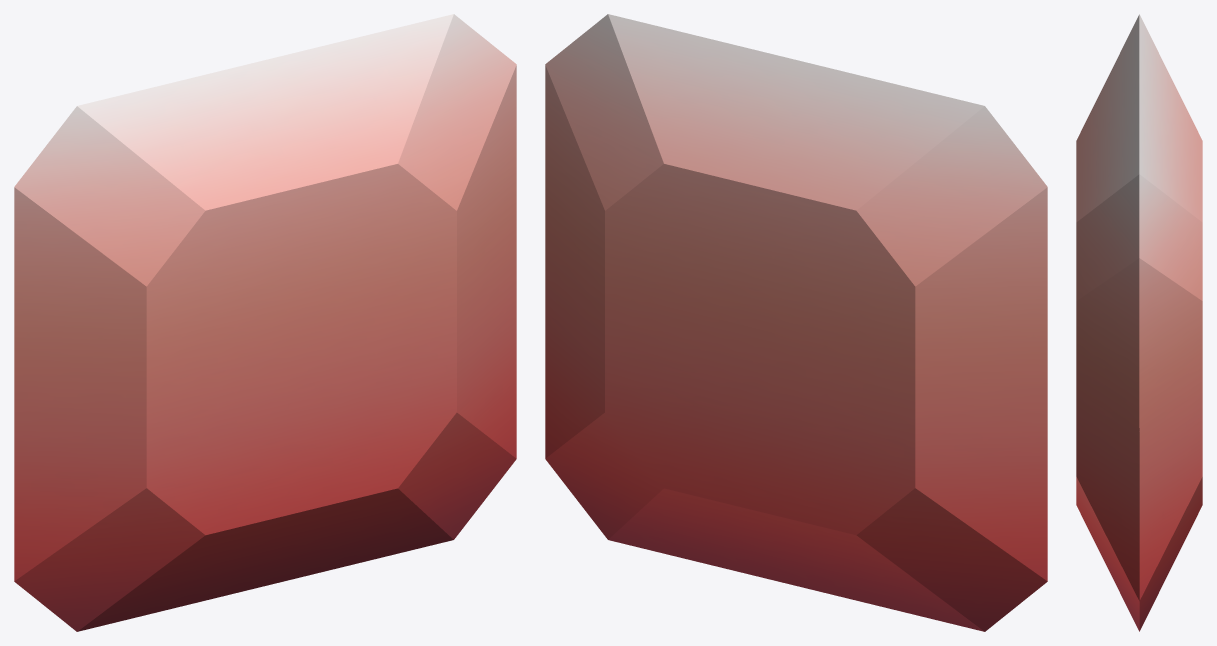
File: gem9.fbx
3 views of the same model, side by side, from view 1: azimuth 30°, elevation 25°; view 2: azimuth 150°, elevation 25°; view 3: azimuth 270°, elevation 25° (orthographic). The views are drawn at different scales.
Parts seen in each view (by area): view 1: Gem9; view 2: Gem9; view 3: Gem9.
Part boxes in pixels (x1=…): Gem9: x1=14, y1=14, x2=516, y2=631; Gem9: x1=545, y1=14, x2=1047, y2=631; Gem9: x1=1076, y1=14, x2=1202, y2=631.
Bounding box in the file's own units: 1 × 1 × 0.25.
